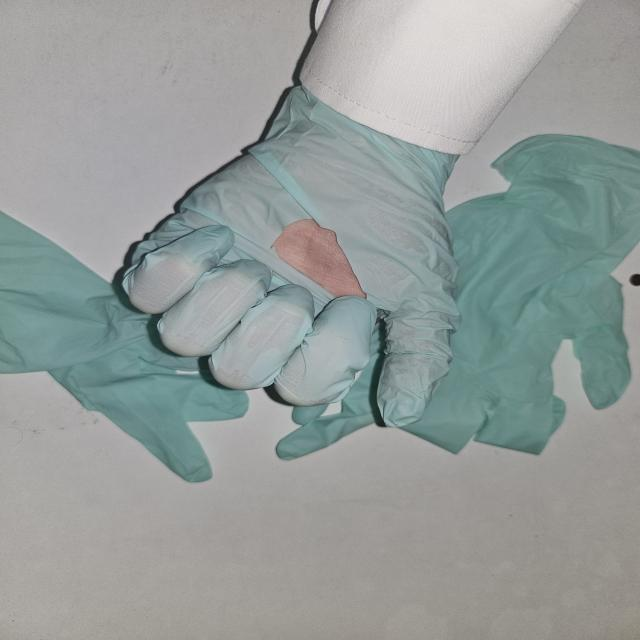gloves_damaged: (118, 80, 462, 430)
